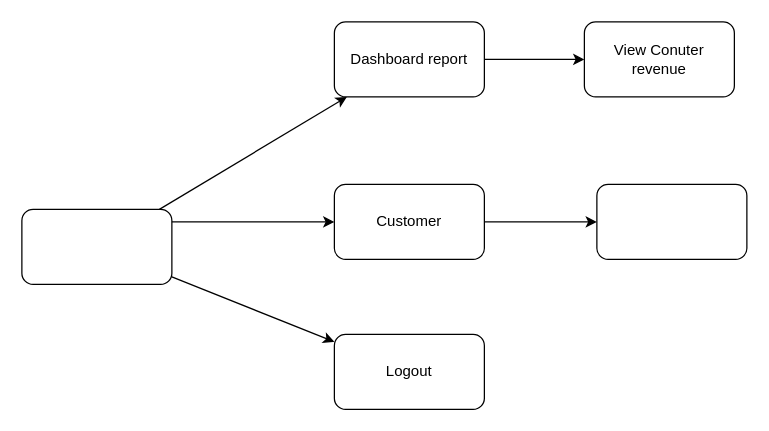
Image size: 769x431. Some labels were removed from this diagram. Each missing label, with the box of its shape:
CRUD Customer: (596, 183, 747, 259)
Login User: (21, 208, 172, 284)
